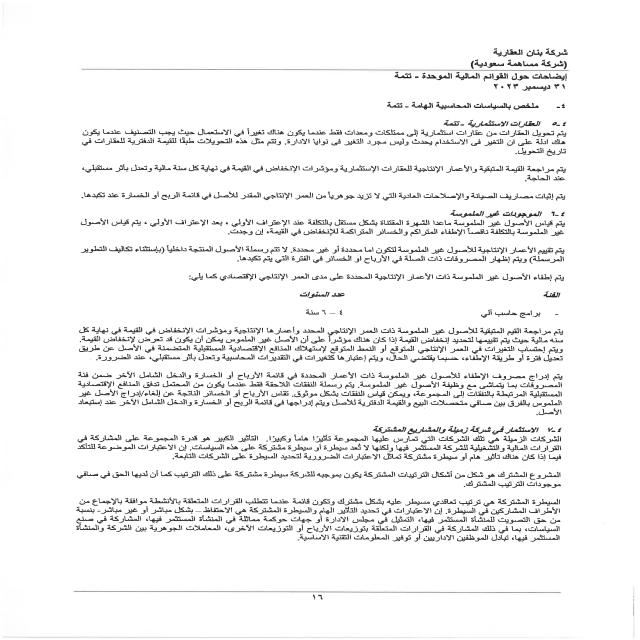notes: (383, 72, 565, 84)
text: (49, 98, 583, 567)
